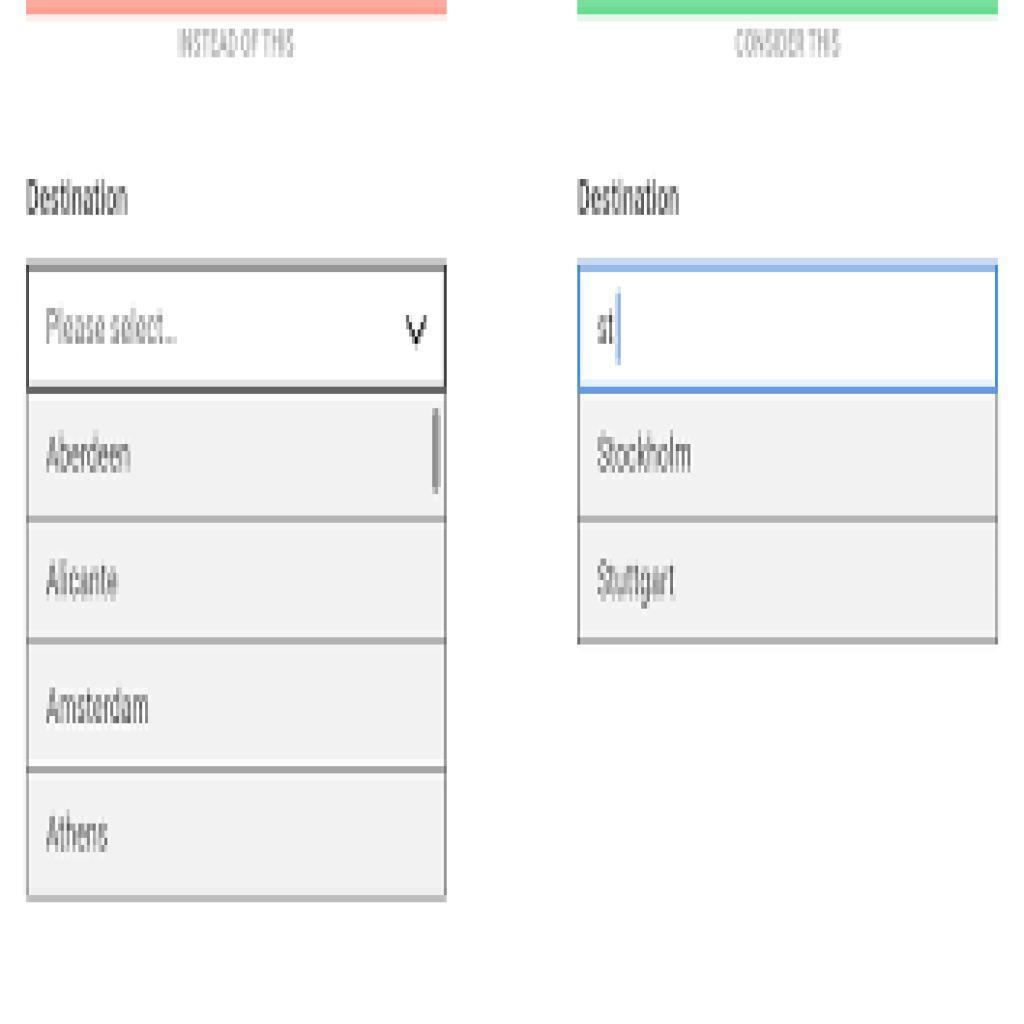dropdown: (27, 262, 445, 388)
input: (576, 265, 997, 389)
